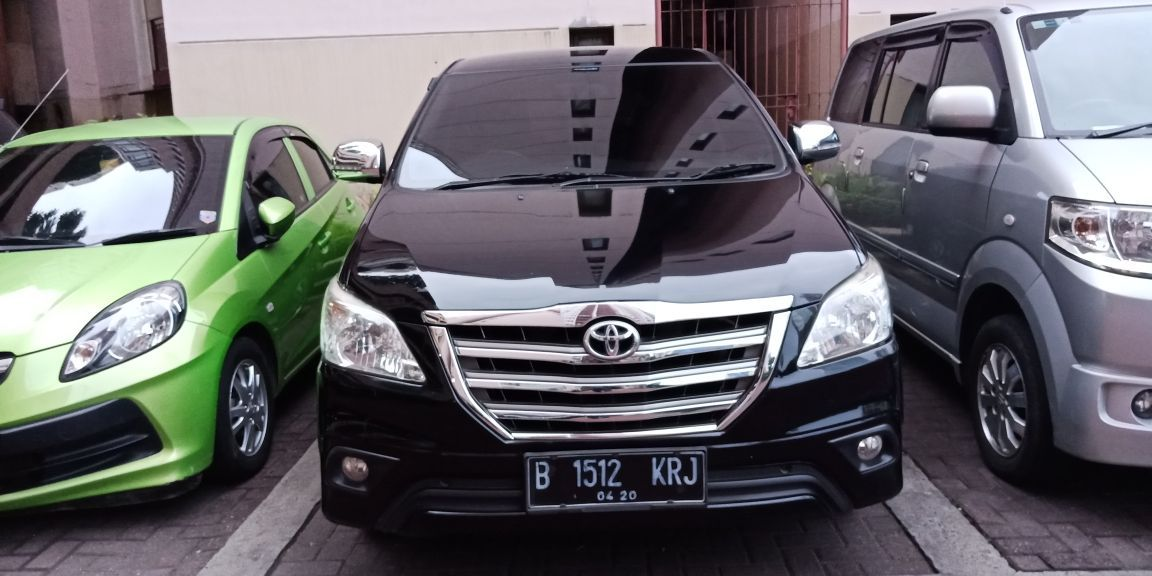plate: (526, 448, 702, 512)
